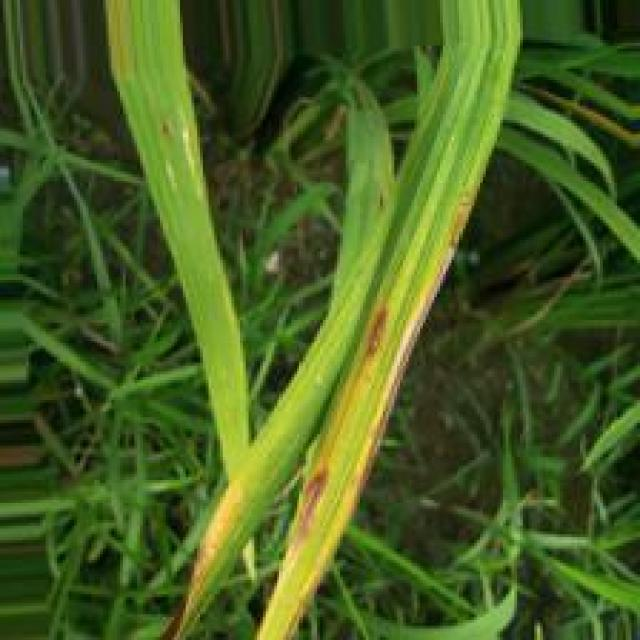Narrow_Brown_Leaf_Spot: (246, 185, 473, 640), (156, 473, 243, 640)
